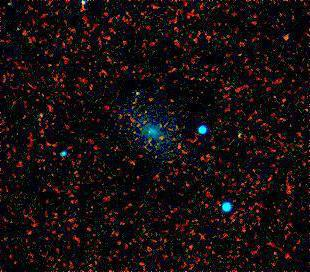star: (123, 78, 153, 108)
